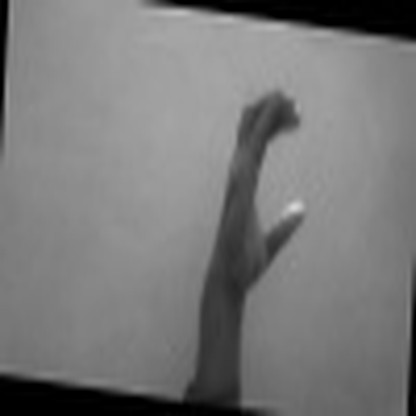c: (213, 85, 315, 283)
